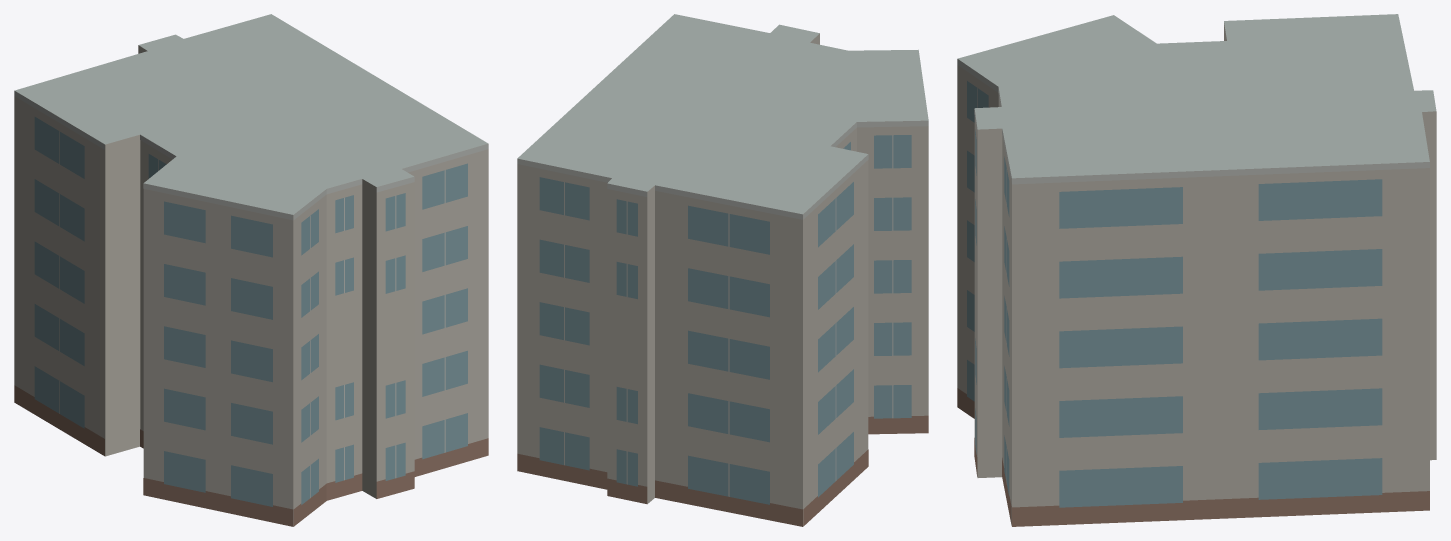
File: survey-upis-32519235.glb
3 views of the same model, side by side, from view 1: azimuth 30°, elevation 25°; view 2: azimuth 150°, elevation 25°; view 3: azimuth 270°, elevation 25° (orthographic). The views are drawn at different scales.
Visible parts, largest first — view 1: survey-upis-32519235.tmp; view 2: survey-upis-32519235.tmp; view 3: survey-upis-32519235.tmp.
Boxes of the visible parts, x1,y1,x2,y2 form: survey-upis-32519235.tmp: [14, 14, 488, 526]; survey-upis-32519235.tmp: [517, 14, 928, 526]; survey-upis-32519235.tmp: [957, 14, 1436, 526].
Size of the model in its own units: 14.06 by 13.9 by 17.32.
